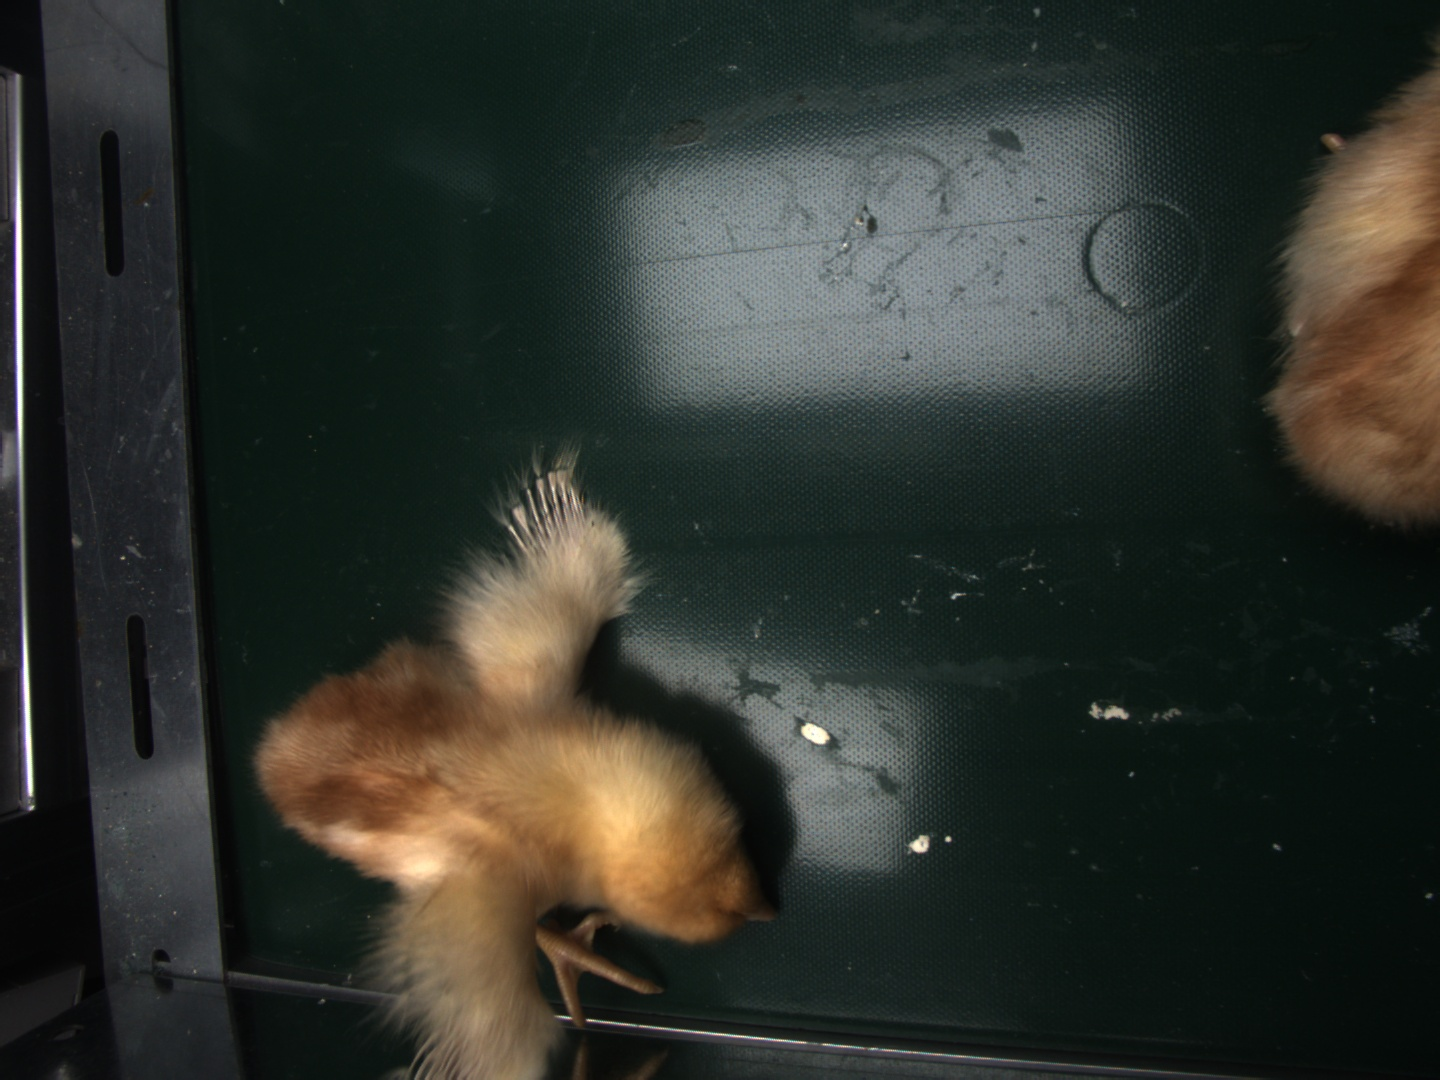female: (413, 1031, 501, 1080)
